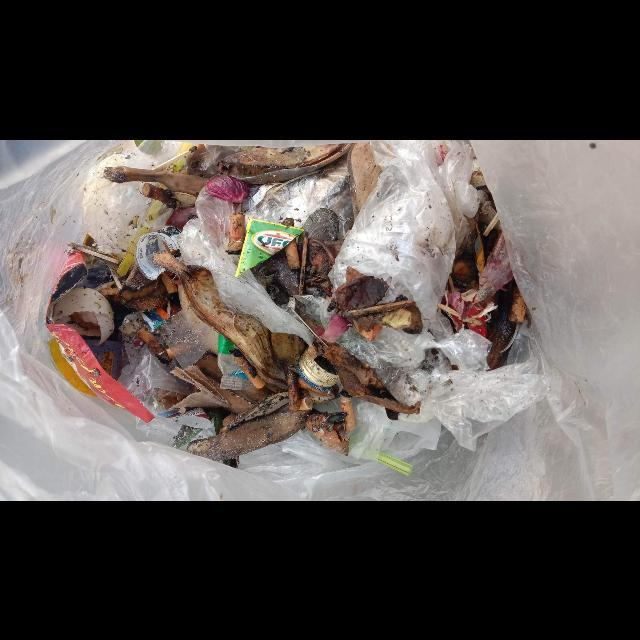biowaste: (154, 252, 286, 388), (189, 410, 309, 460), (218, 142, 354, 182), (52, 289, 114, 345), (104, 166, 208, 195), (204, 175, 249, 201)
paper: (157, 365, 232, 412)
plastic: (329, 139, 549, 452), (177, 186, 313, 346)
wrapper: (45, 252, 154, 422), (235, 217, 305, 277)
